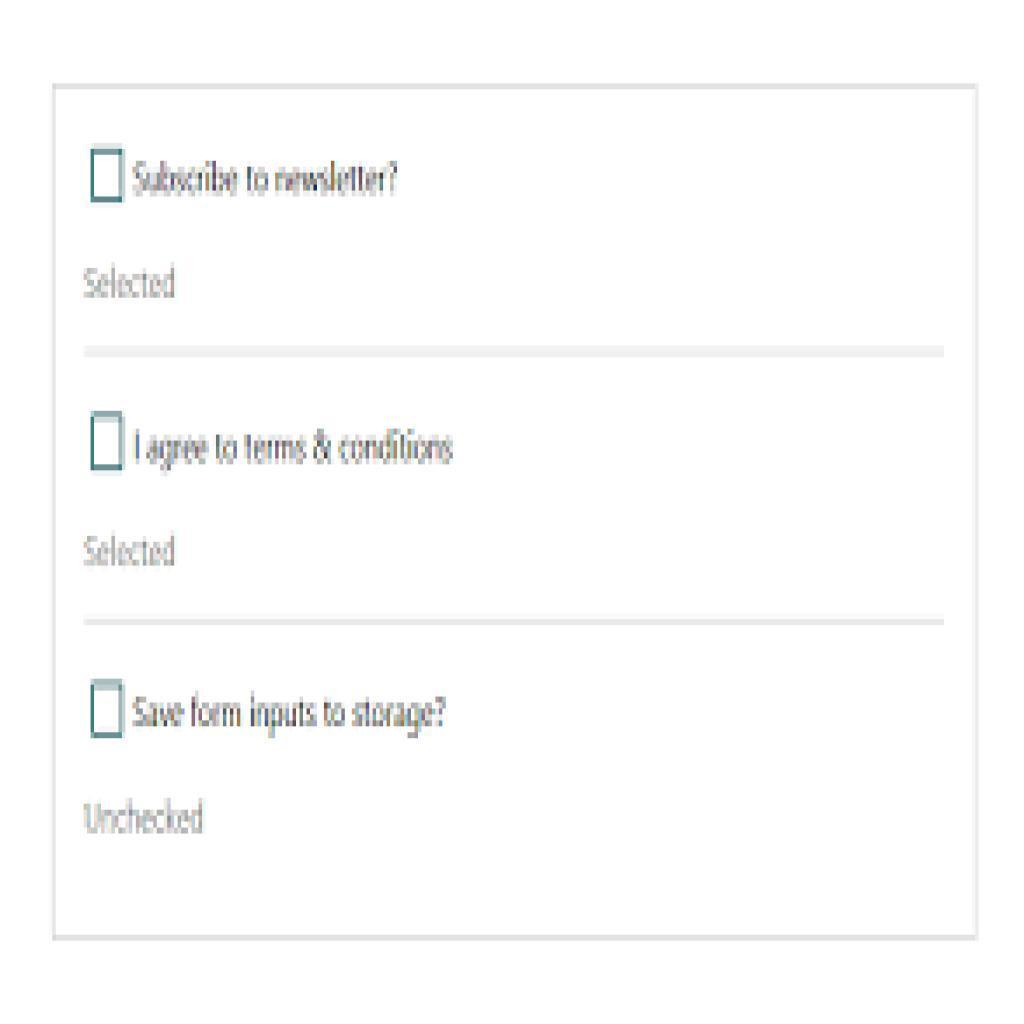checkbox: (94, 413, 122, 471), (90, 151, 123, 200), (95, 684, 123, 738)
label: (130, 421, 456, 472), (132, 689, 448, 738), (131, 156, 402, 201), (84, 794, 212, 838), (79, 257, 186, 307), (81, 532, 179, 575)
